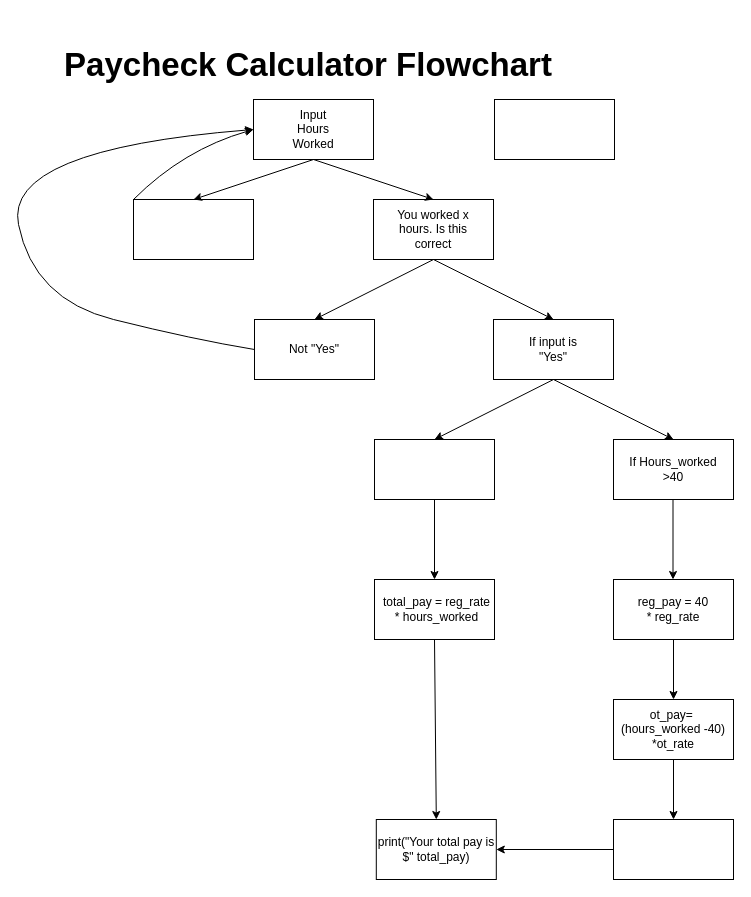
Some shapes in this 751 by 897 pixel diagram are drawn without their labels. The centre of each missing label's shape, as x and y in pixels:
"If Hours_worked <40" belongs at (434,469).
"If Hours_Worked <=0" belongs at (193,229).
"Set reg_rate = 20 Set ot_rate =30" belongs at (554,129).
"total_pay = ot_pay + reg_pay" belongs at (673,849).
